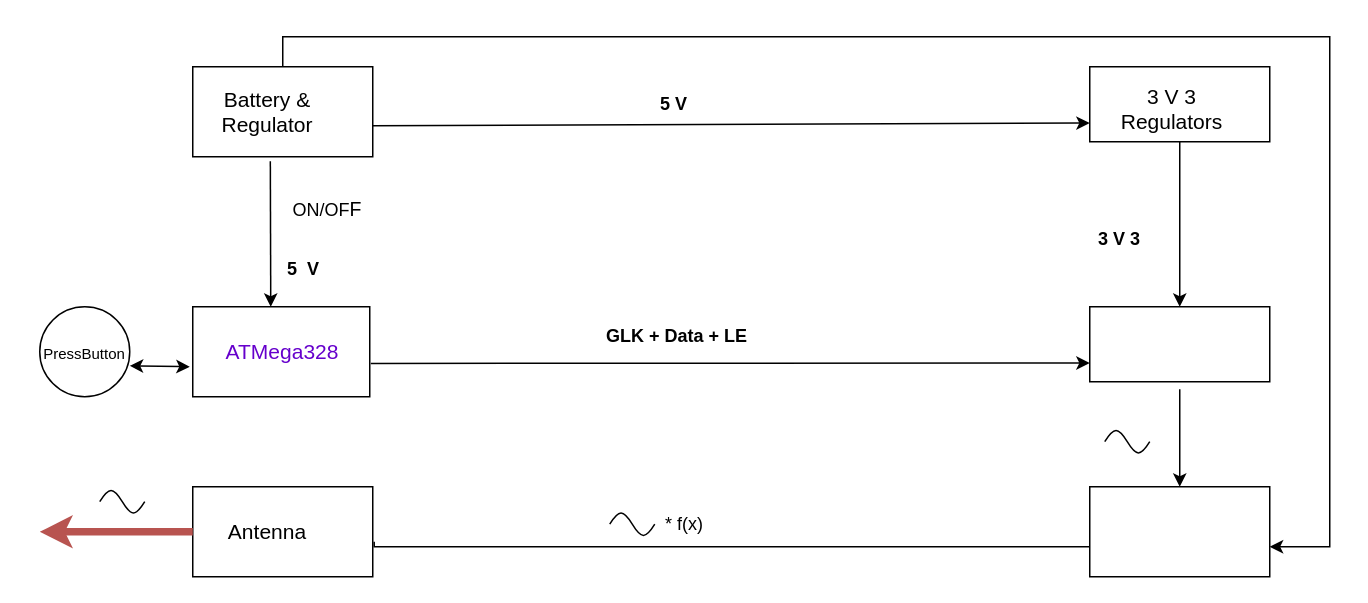
The diagram is 1368 pixels wide and 603 high, and some of its shapes have lost their labels. The centre of each missing label's shape, as x and y in pixels:
"Amplifier" goes at [1179,531].
"Synthesizer" goes at [1179,343].
